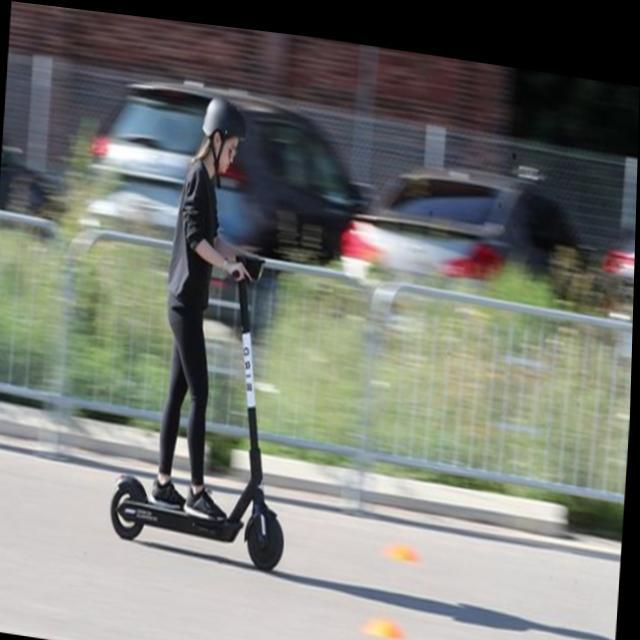Helmet: (185, 91, 250, 185)
